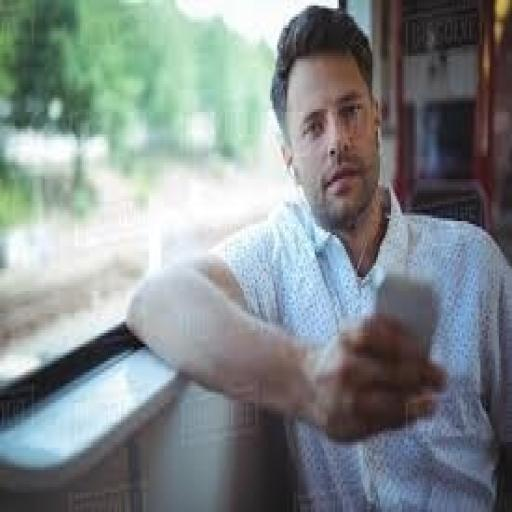listening_to_music: (123, 3, 510, 509)
